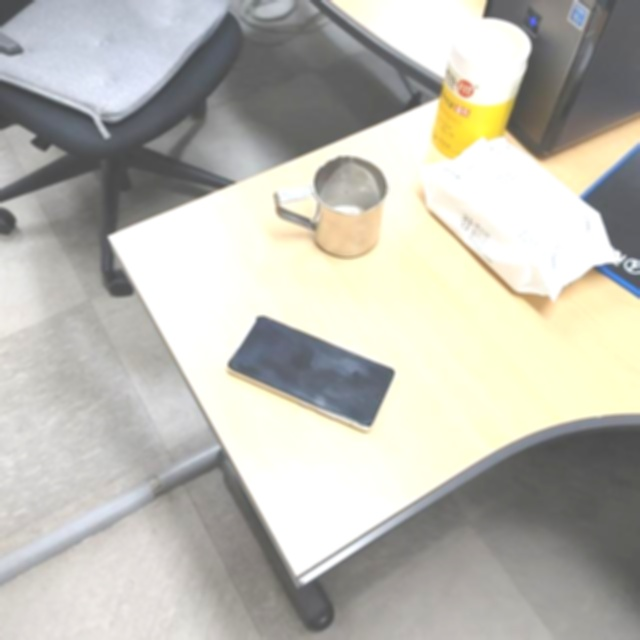cup: (273, 152, 391, 260)
phone: (224, 313, 398, 437)
